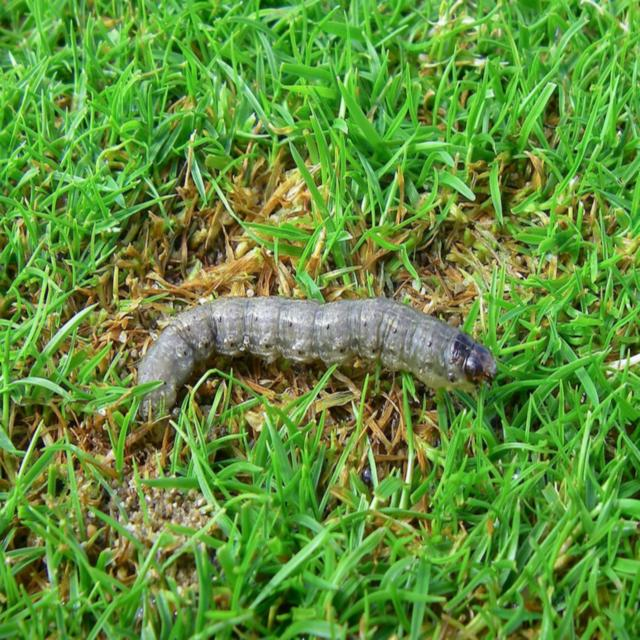black cutworm: (135, 298, 498, 435)
